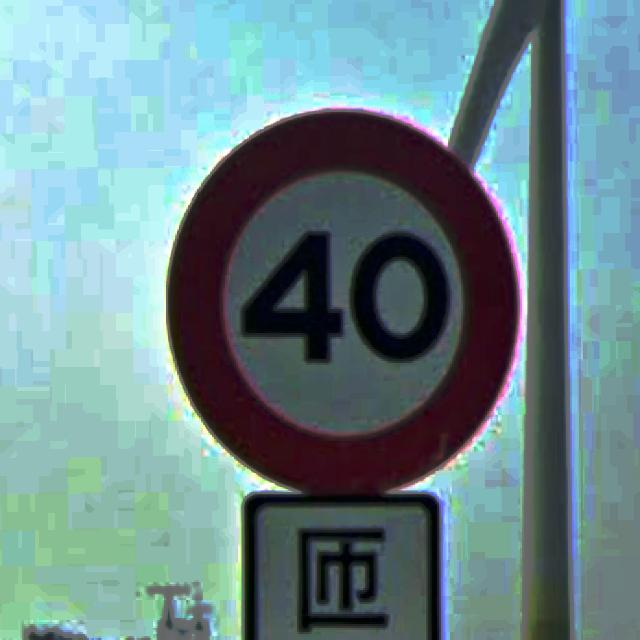max40: (164, 106, 520, 494)
